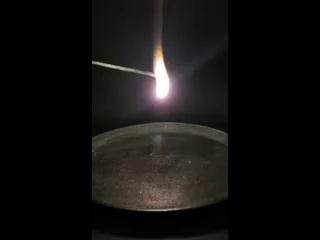Fire: (152, 44, 172, 98)
